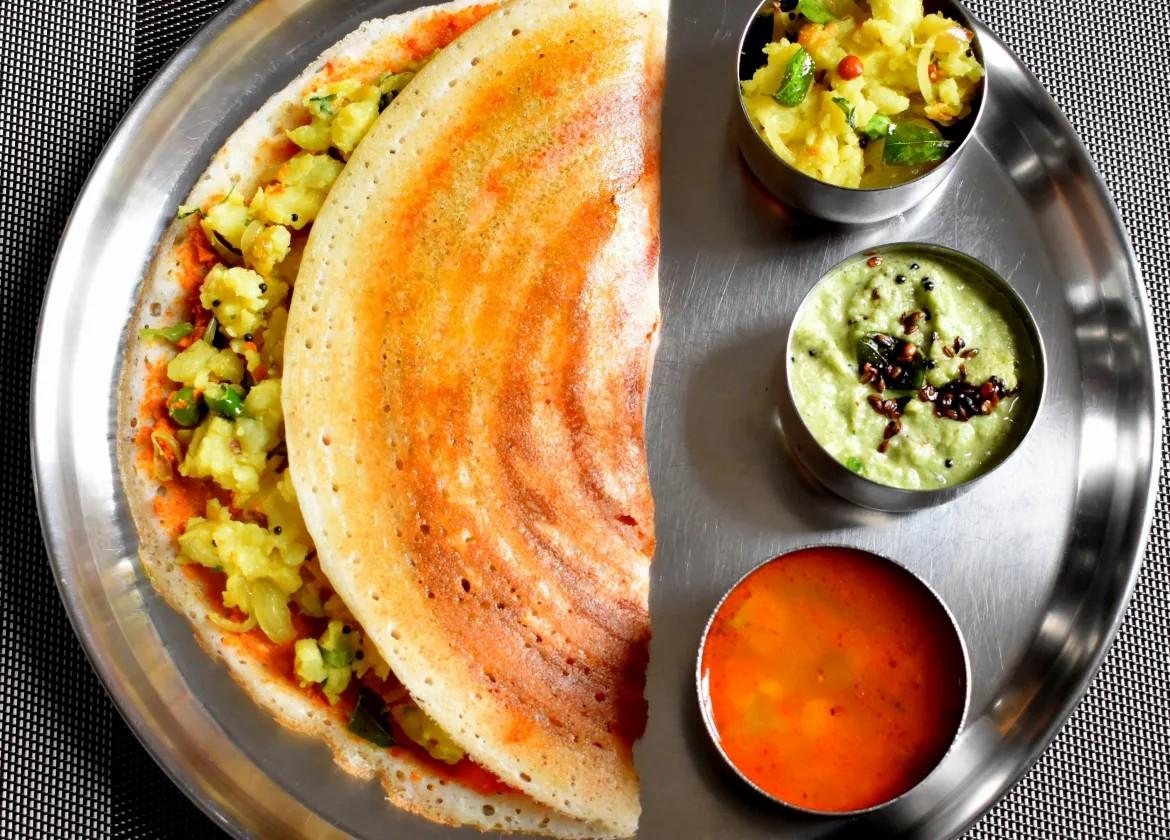Dosa: (121, 0, 669, 840)
